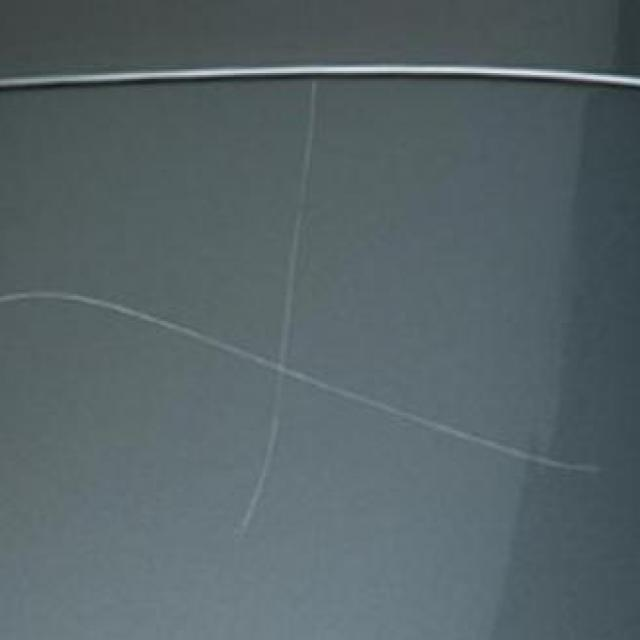scratch: (6, 284, 611, 486), (227, 74, 337, 536)
